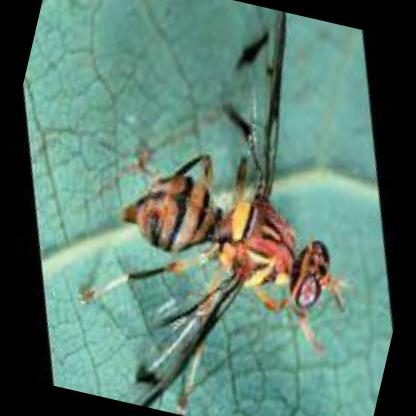fruit fly: (120, 9, 345, 407)
